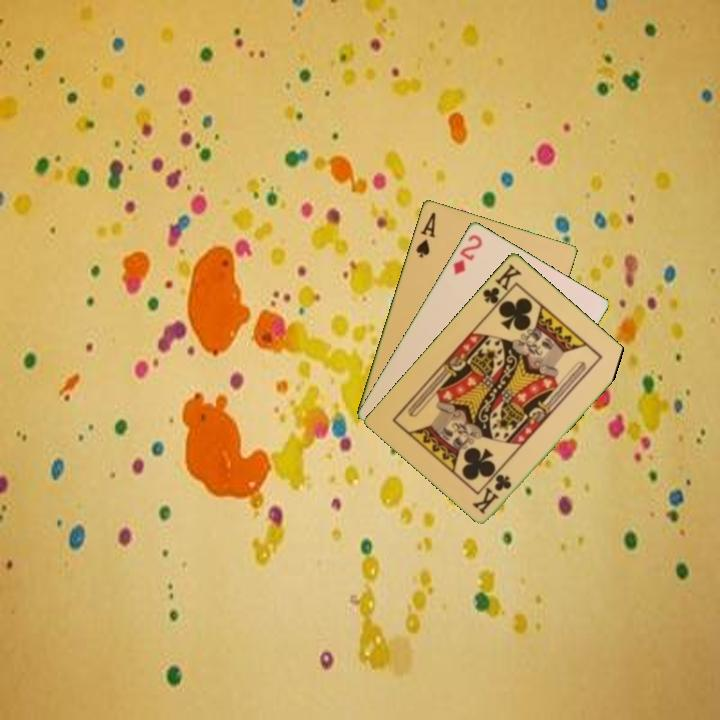2d: (449, 230, 485, 277)
As: (412, 208, 439, 260)
Kc: (479, 260, 524, 312), (469, 470, 515, 517)
